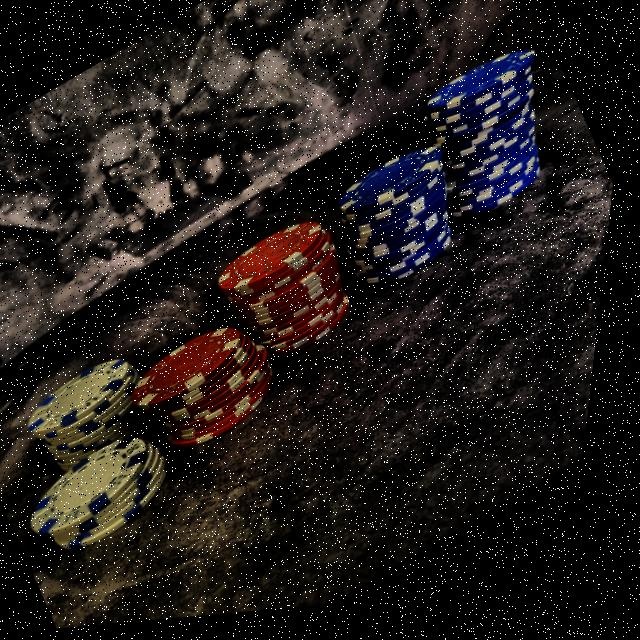Chip: (115, 285, 319, 487), (195, 190, 394, 395), (311, 123, 505, 318), (19, 402, 218, 585), (404, 49, 588, 242), (22, 332, 189, 489)
